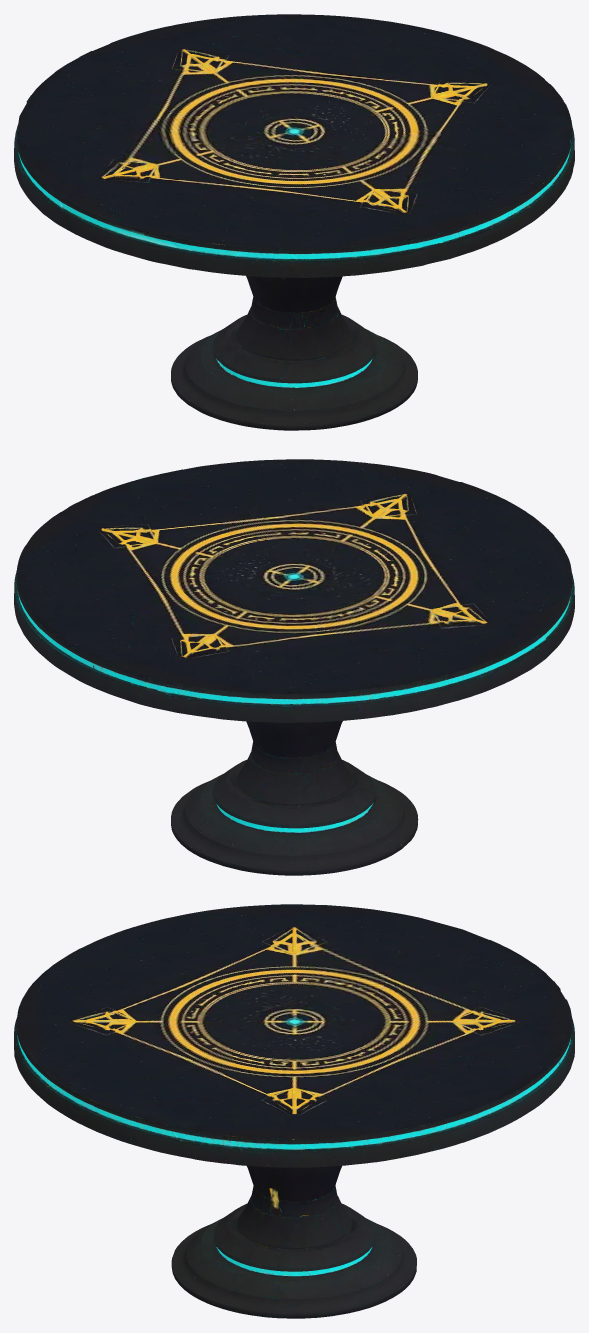
The model's file is fur-table.glb.
The picture shows the model from 3 angles, top to bottom: view 1: azimuth 30°, elevation 25°; view 2: azimuth 150°, elevation 25°; view 3: azimuth 270°, elevation 25°; orthographic projection.
Parts seen in each view (by area): view 1: Mesh_0; view 2: Mesh_0; view 3: Mesh_0.
Part boxes in pixels (<box>): Mesh_0: <box>14,14,574,430</box>; Mesh_0: <box>14,459,574,875</box>; Mesh_0: <box>14,904,574,1318</box>.
Size of the model in its own units: 1.9 by 0.9222 by 1.9.
Materials: 1 (1 with a texture image).
